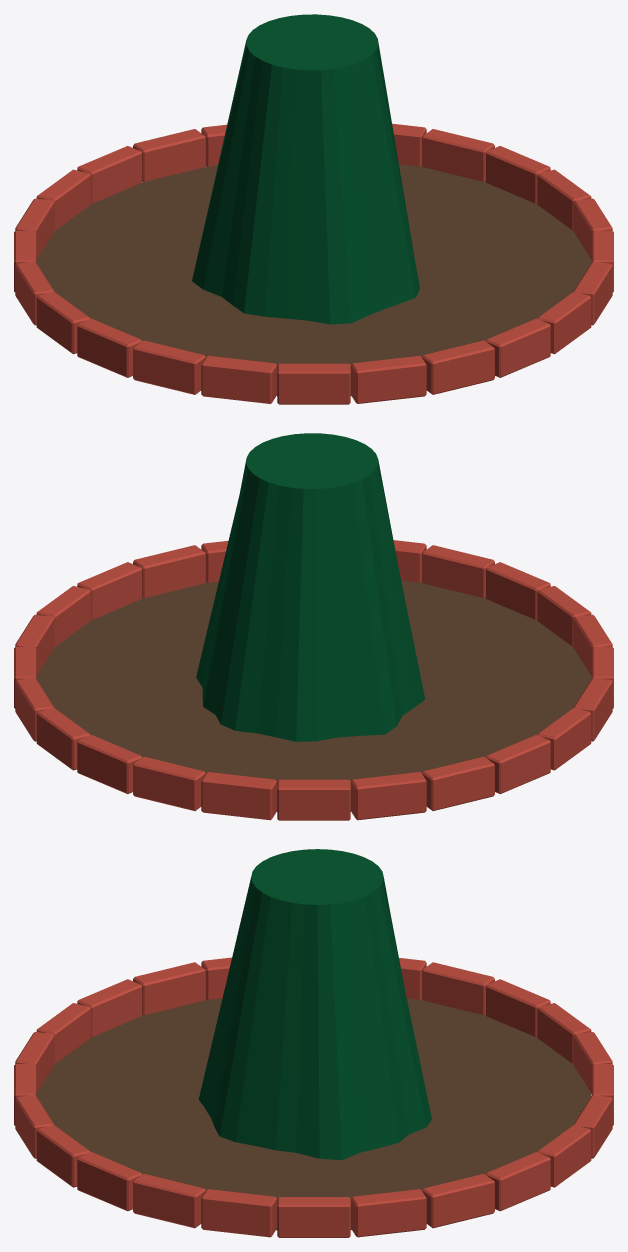
File: plant base.fbx
The picture shows the model from 3 angles, top to bottom: view 1: azimuth 30°, elevation 25°; view 2: azimuth 150°, elevation 25°; view 3: azimuth 270°, elevation 25°; orthographic projection.
Visible parts, largest first — view 1: Cylinder, Cylinder.001, Cube; view 2: Cylinder, Cylinder.001, Cube; view 3: Cylinder, Cylinder.001, Cube.
Part boxes in pixels (x1,y1,x2,y2): Cylinder: (36, 164, 591, 396); Cylinder.001: (192, 14, 419, 324); Cube: (14, 123, 613, 404); Cylinder: (36, 580, 591, 811); Cylinder.001: (196, 433, 425, 741); Cube: (14, 540, 613, 820); Cylinder: (36, 998, 591, 1230); Cylinder.001: (198, 849, 431, 1160); Cube: (14, 957, 613, 1237).
Size of the model in its own units: 1636 by 726 by 1636.
